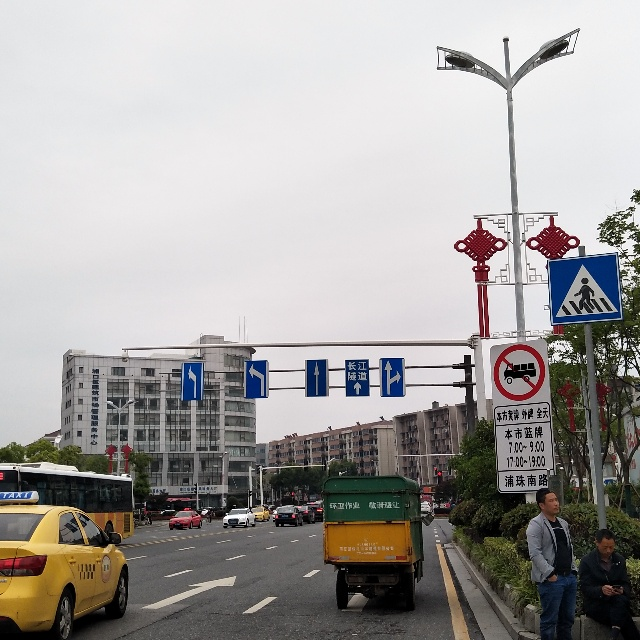left: (245, 359, 265, 402), (183, 362, 203, 402)
straight: (308, 358, 329, 394)
